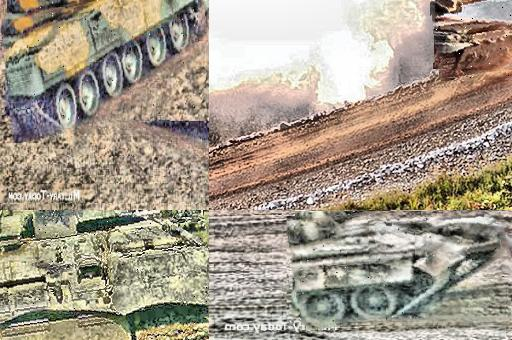tanks: (1, 211, 210, 340), (3, 1, 199, 132), (288, 213, 509, 325), (432, 1, 512, 80)
